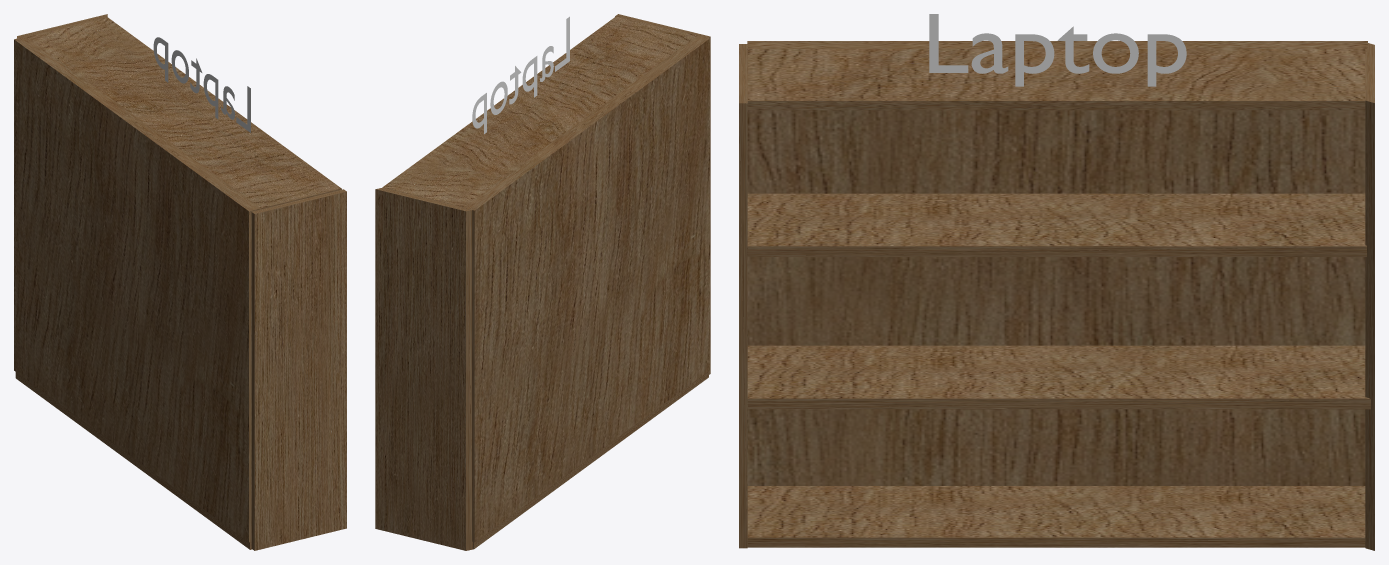
The model's file is estanteLap.glb.
3 renders of one model, left to right at view 1: azimuth 30°, elevation 25°; view 2: azimuth 150°, elevation 25°; view 3: azimuth 270°, elevation 25°, orthographic. The views are drawn at different scales.
Visible parts, largest first — view 1: Cube, Texto; view 2: Cube, Texto; view 3: Cube, Texto.
Part boxes in pixels (box(x1,y1,x2,y2)): Cube: box(14, 14, 346, 550); Texto: box(153, 37, 250, 132); Cube: box(375, 14, 710, 550); Texto: box(472, 16, 569, 133); Cube: box(739, 41, 1374, 550); Texto: box(929, 14, 1186, 86).
Size of the model in its own units: 1.54 by 6.01 by 6.66.
2 materials, 1 textured.
